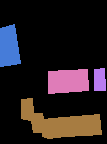parkingspot: (21, 98, 101, 138), (48, 69, 88, 93), (0, 24, 20, 66), (94, 68, 105, 90)
